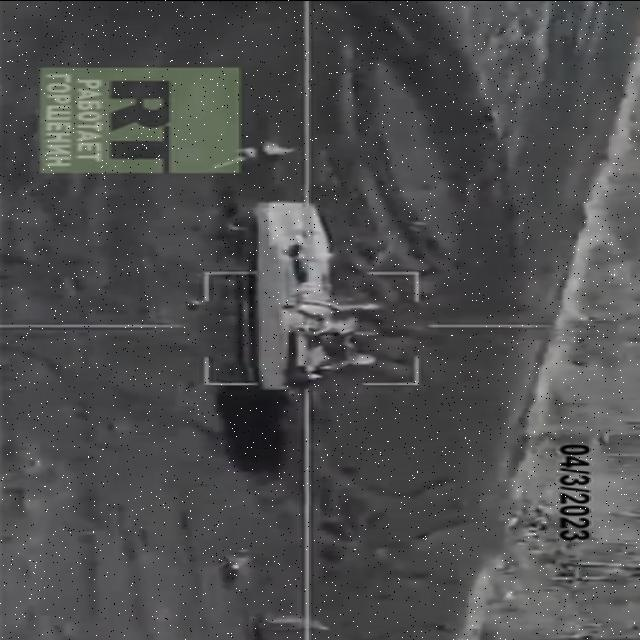ART: (208, 198, 384, 388)
